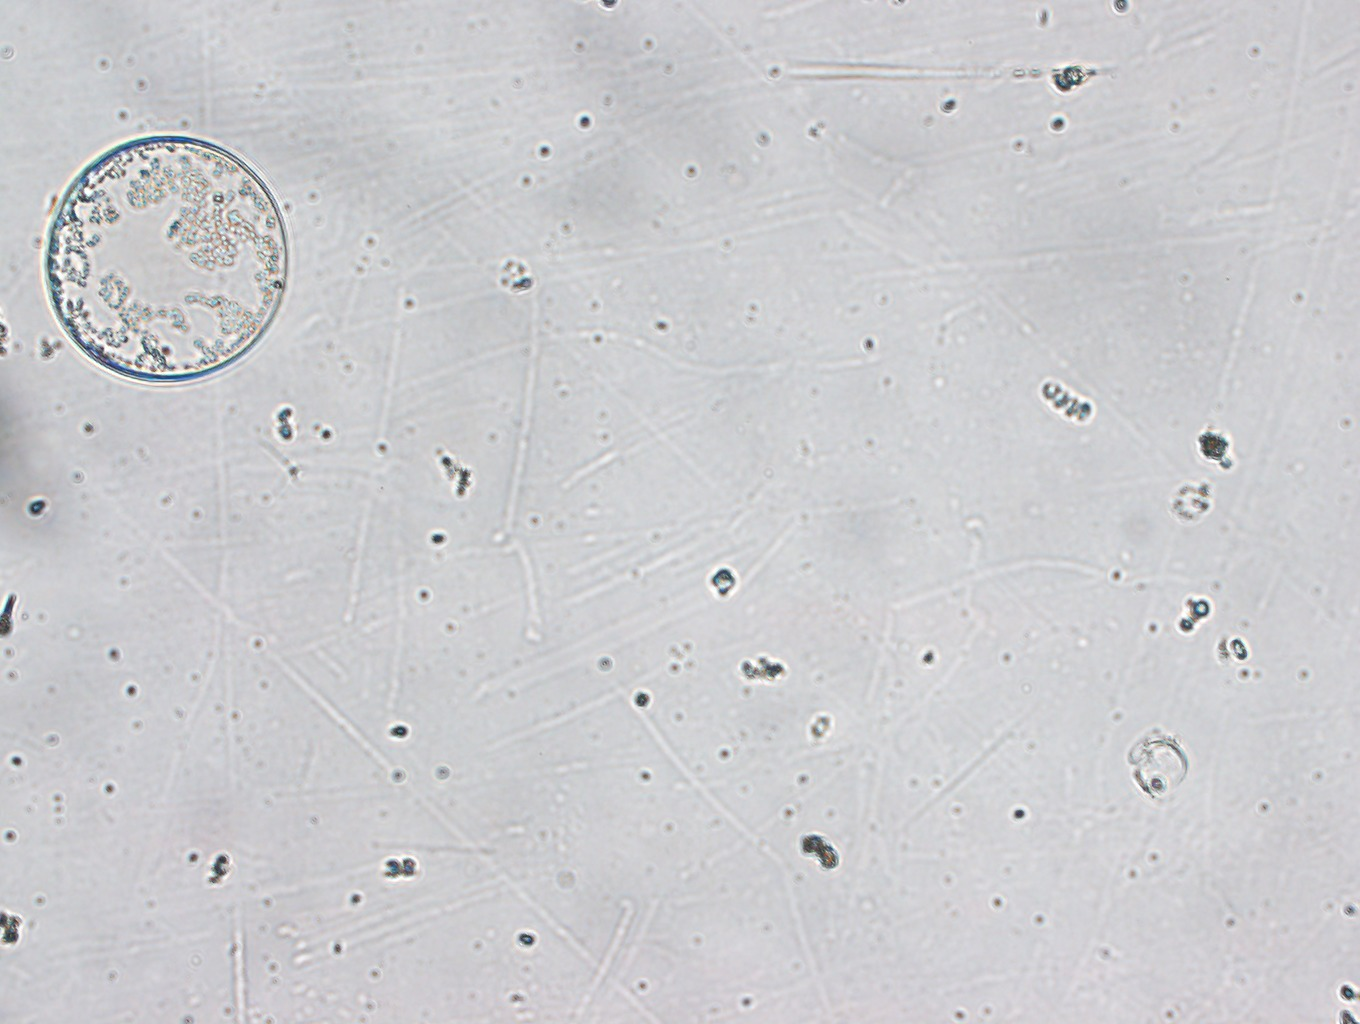coscinodiscus: (38, 130, 296, 385)
